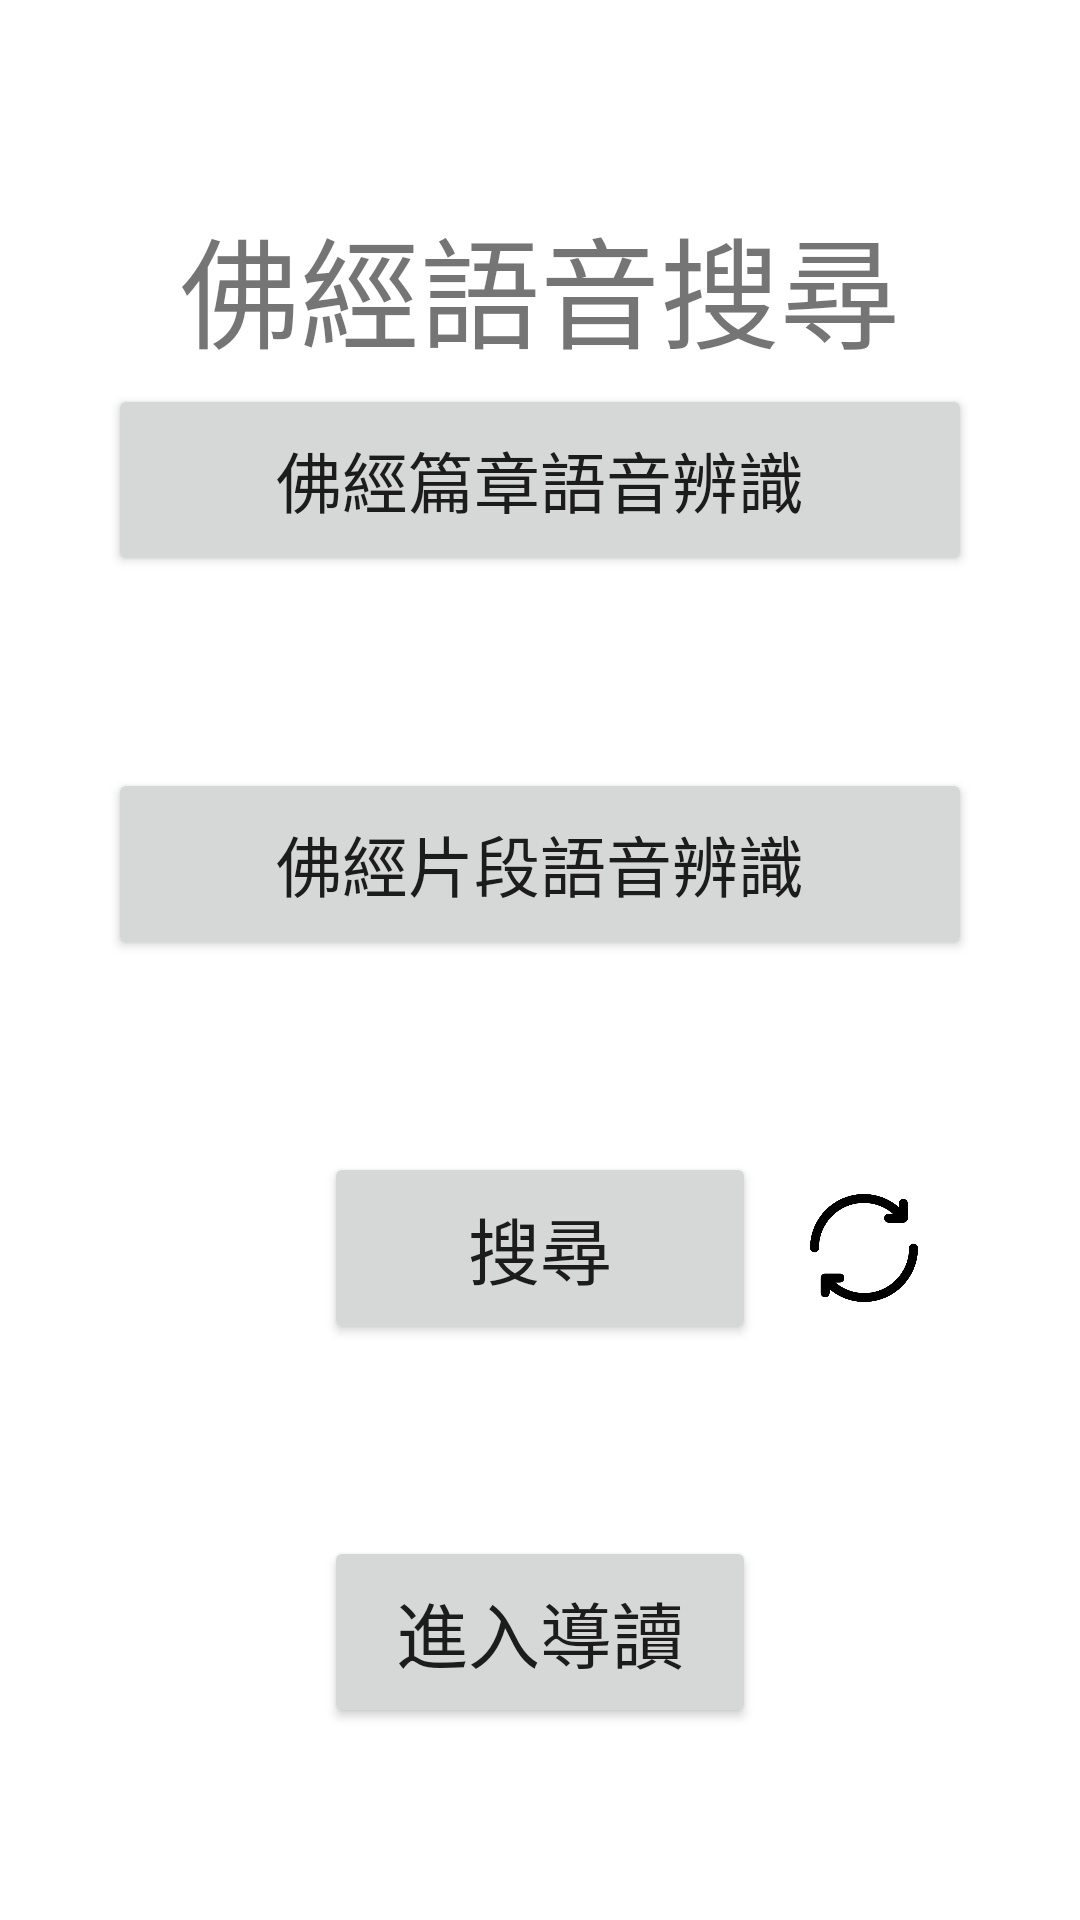

Icons on this 1080 × 1920 Android screen, each with its box as [x1,y1,x2,y2]:
reset: [810,1194,918,1302]
